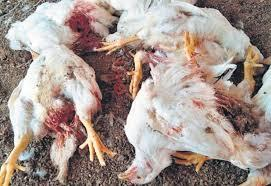AbNormal: (122, 56, 271, 183), (6, 35, 109, 186), (112, 0, 260, 78), (13, 6, 124, 54)
